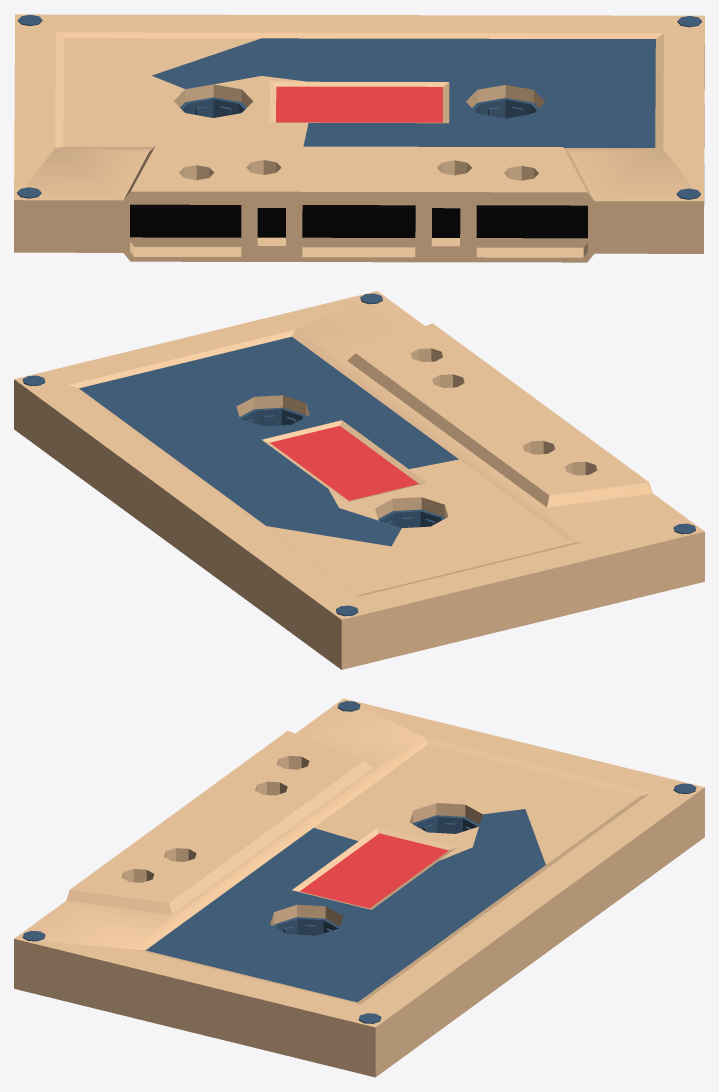
The model's file is Toy112.fbx.
The picture shows the model from 3 angles, top to bottom: view 1: azimuth 30°, elevation 25°; view 2: azimuth 150°, elevation 25°; view 3: azimuth 270°, elevation 25°; orthographic projection. The views are drawn at different scales.
Parts seen in each view (by area): view 1: Toy112; view 2: Toy112; view 3: Toy112.
Part boxes in pixels (bbox=[...]): Toy112: bbox=[14, 14, 704, 262]; Toy112: bbox=[14, 291, 704, 669]; Toy112: bbox=[14, 698, 704, 1077].
Size of the model in its own units: 0.1939 by 0.0185 by 0.1724.
